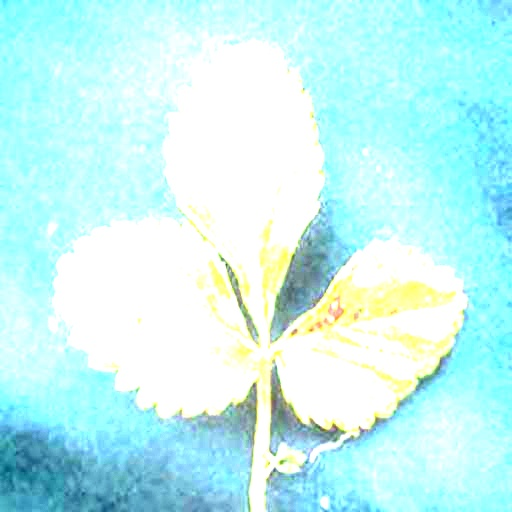Leaf Spot: (162, 38, 328, 348), (52, 219, 265, 420), (274, 236, 468, 437)
